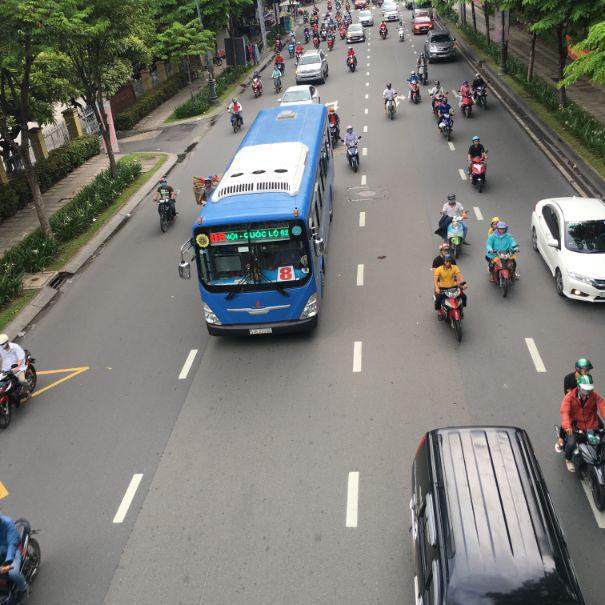bus: (188, 105, 332, 338)
car: (532, 198, 605, 307), (296, 51, 331, 85), (427, 32, 458, 65), (413, 15, 433, 35), (347, 24, 365, 42), (358, 12, 374, 27), (379, 22, 389, 39)
motorbike: (434, 282, 466, 344), (492, 253, 519, 297), (464, 155, 491, 189), (157, 199, 176, 233), (382, 94, 400, 123), (347, 146, 360, 172), (228, 112, 243, 133), (346, 47, 358, 72), (251, 76, 264, 98)
